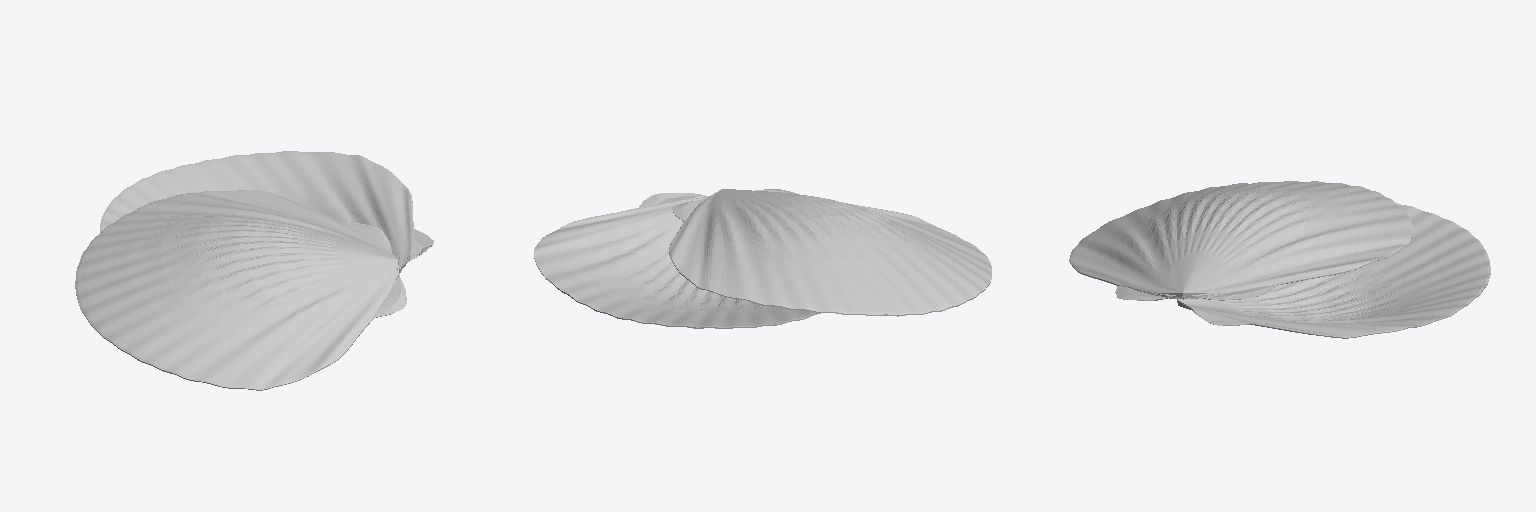
The model's file is seashell.obj.
3 views of the same model, side by side, from view 1: azimuth 30°, elevation 25°; view 2: azimuth 150°, elevation 25°; view 3: azimuth 270°, elevation 25° (orthographic).
Parts seen in each view (by area): view 1: polySurface2 Mesh; view 2: polySurface2 Mesh; view 3: polySurface2 Mesh.
Part boxes in pixels (bbox=[...]): polySurface2 Mesh: bbox=[75, 151, 433, 390]; polySurface2 Mesh: bbox=[534, 189, 991, 328]; polySurface2 Mesh: bbox=[1069, 181, 1490, 338].
Bounding box in the file's own units: 1.81 × 0.3578 × 1.84.